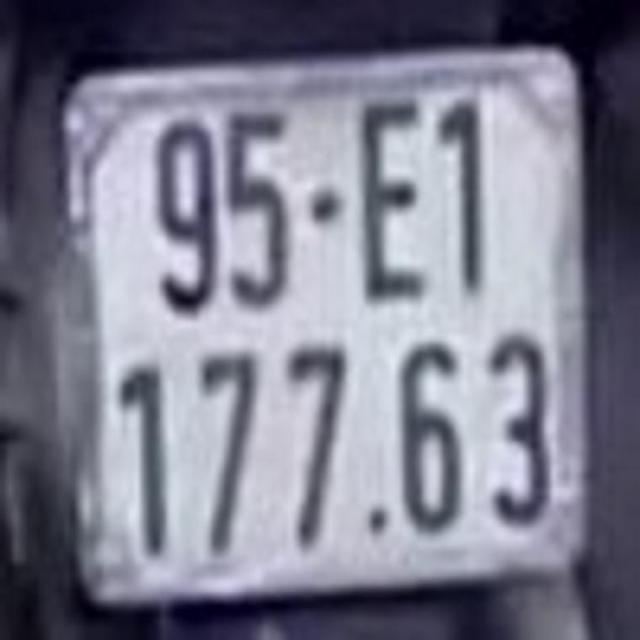1: (117, 368, 174, 550), (437, 105, 486, 282)
3: (493, 338, 551, 520)
5: (226, 116, 289, 308)
6: (399, 345, 465, 529)
7: (195, 346, 248, 557), (292, 342, 344, 556)
9: (152, 122, 222, 306)
E: (359, 100, 421, 298)
